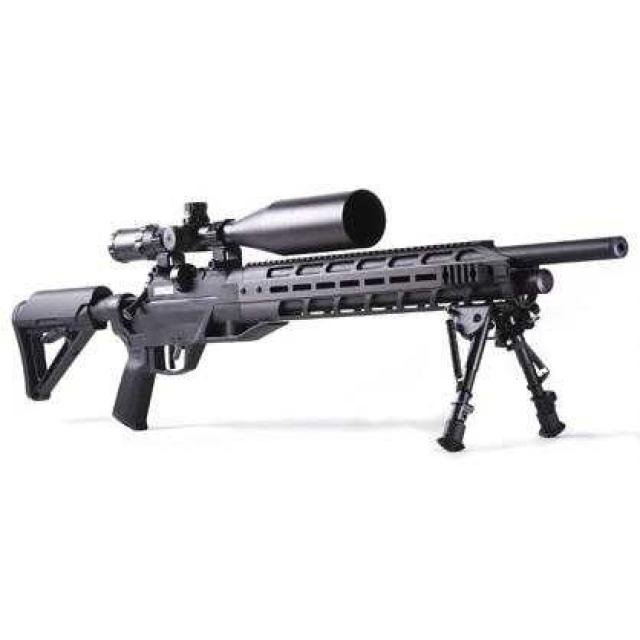heavyweapon: (18, 191, 640, 503)
